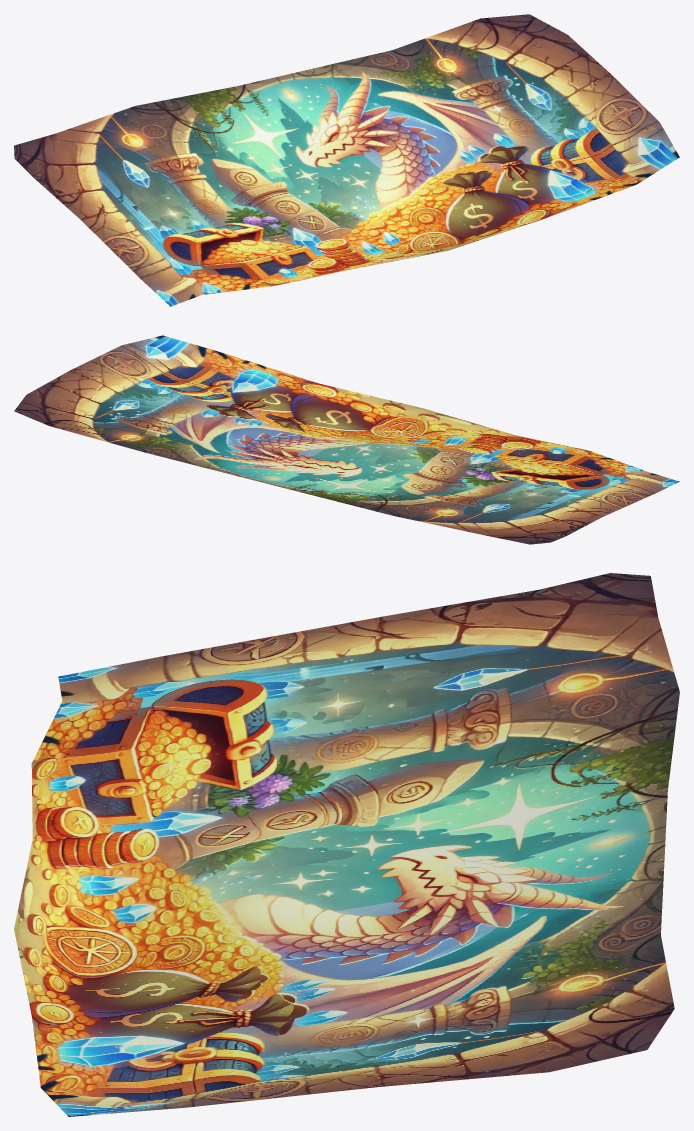
The model's file is Background_fbx_optimized_textured.fbx.
The picture shows the model from 3 angles, top to bottom: view 1: azimuth 30°, elevation 25°; view 2: azimuth 150°, elevation 25°; view 3: azimuth 270°, elevation 25°; orthographic projection. The views are drawn at different scales.
Visible parts, largest first — view 1: DepthMapObj; view 2: DepthMapObj; view 3: DepthMapObj.
Part boxes in pixels (<box>): DepthMapObj: <box>14,14,679,306</box>; DepthMapObj: <box>14,335,679,544</box>; DepthMapObj: <box>14,573,679,1116</box>.
Bounding box in the file's own units: 42298 × 5154 × 23430.
Materials: 1 (1 with a texture image).
